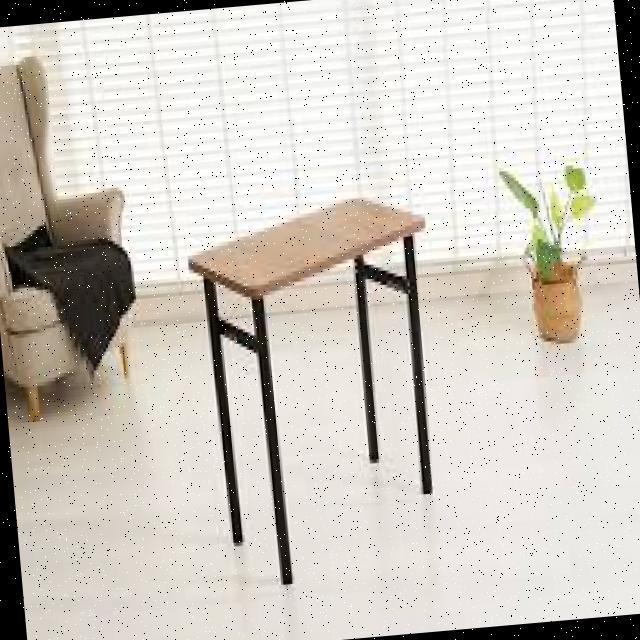Table: (175, 168, 459, 594)
